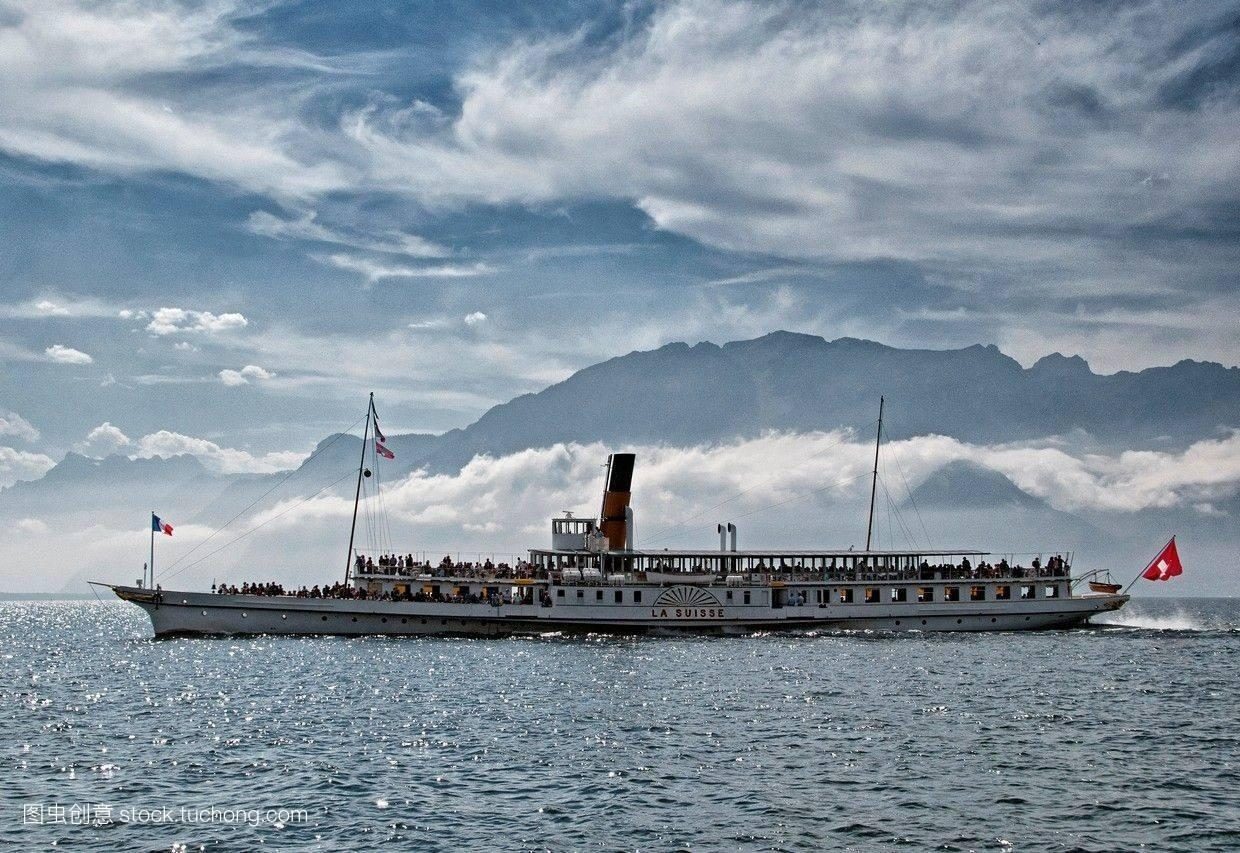youlun: (104, 445, 1198, 643)
